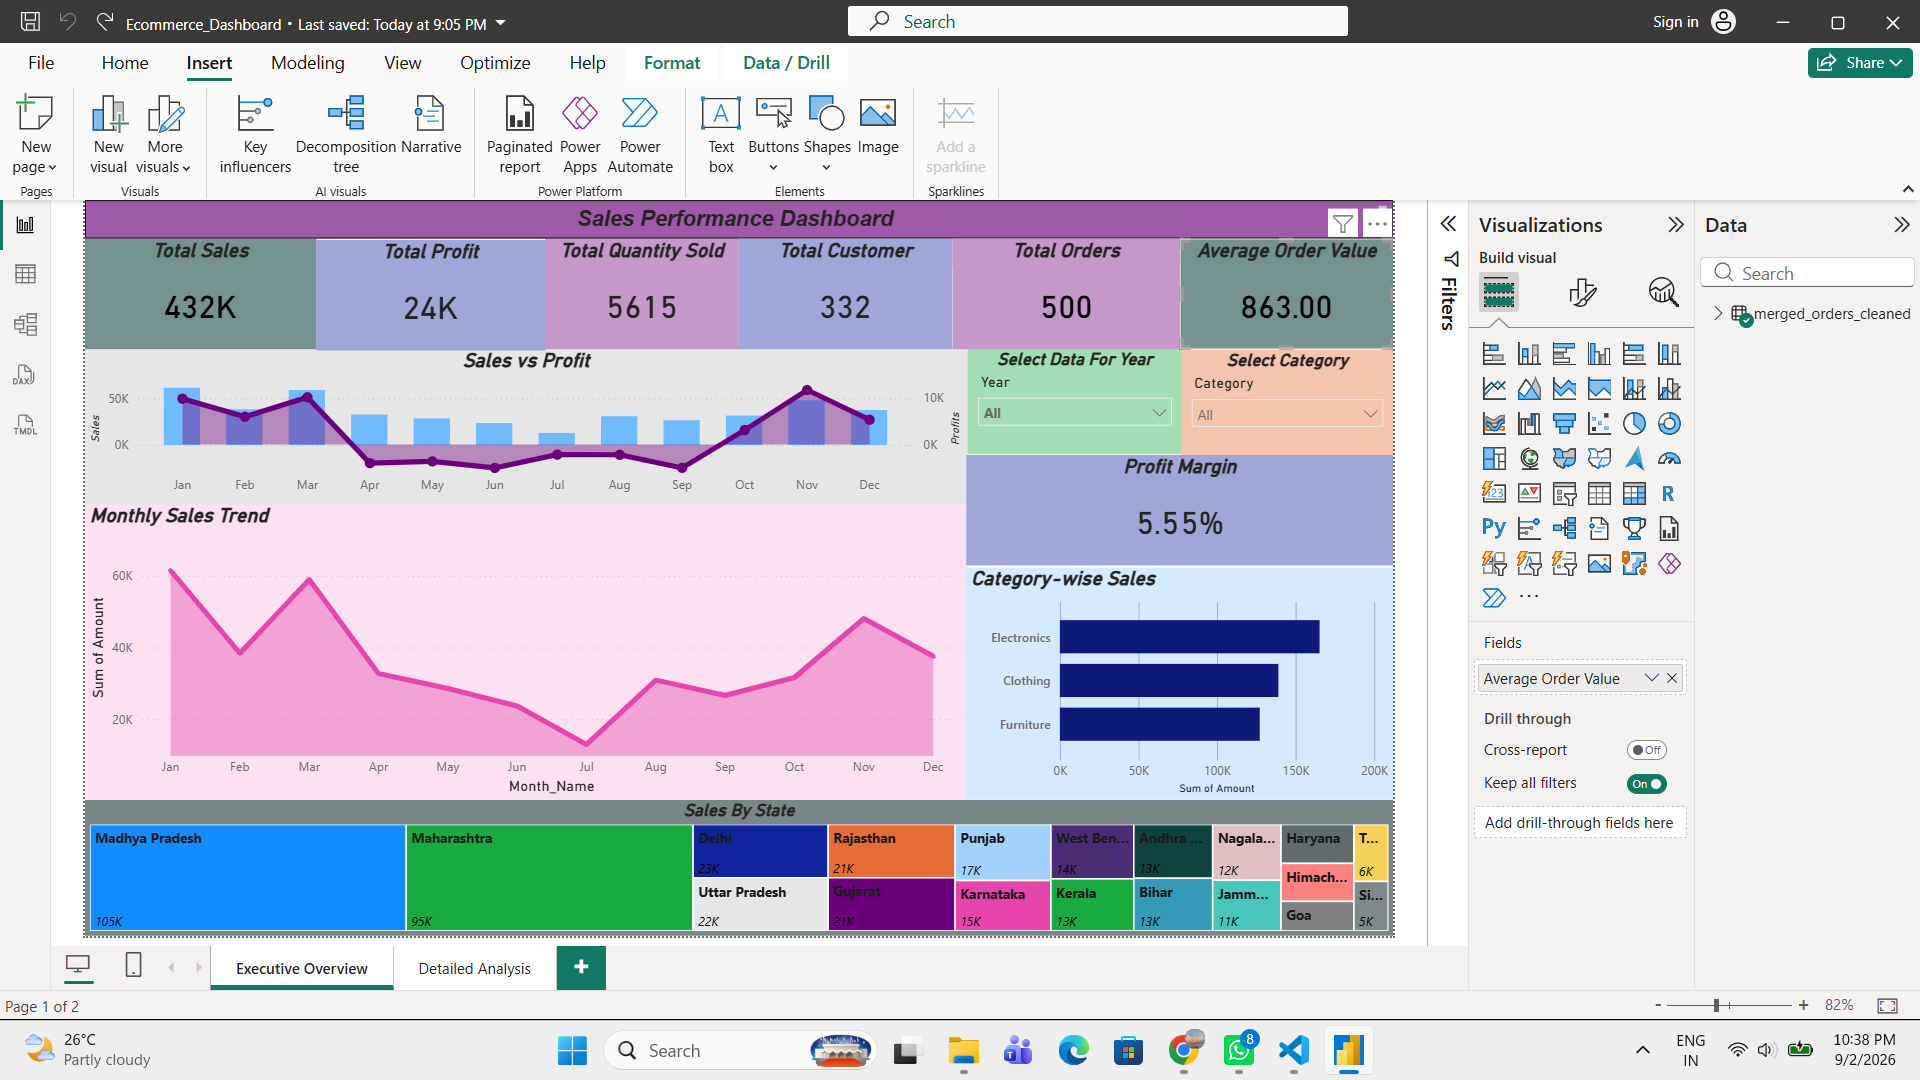

Layout of this report page (visuals, bound fields, positions):
{"tool":"powerbi","page":{"name":"Executive Overview","canvas":[1280,720],"ordinal":0},"visuals":[{"type":"card","title":"Total Sales","fields":{"Values":["Sum(merged_orders_cleaned.Amount)"]},"box":[0,37.9,226.2,107.6],"z":0},{"type":"card","title":"Total Profit","fields":{"Values":["Sum(merged_orders_cleaned.Profit)"]},"box":[226.2,39.1,223.8,107.6],"z":1000},{"type":"card","title":"Total Quantity Sold","fields":{"Values":["Sum(merged_orders_cleaned.Quantity)"]},"box":[450,37.9,189.5,107.6],"z":2000},{"type":"lineChart","title":"Monthly Sales Trend","fields":{"Category":["merged_orders_cleaned.Month_Name"],"Y":["Sum(merged_orders_cleaned.Amount)"]},"box":[0,297.3,862.1,289.8],"z":3000},{"type":"clusteredBarChart","title":"Category-wise Sales","fields":{"Category":["merged_orders_cleaned.Category"],"Y":["Sum(merged_orders_cleaned.Amount)"]},"box":[862.1,359.5,418.2,227.4],"z":4000},{"type":"treemap","title":"Sales By State","fields":{"Group":["merged_orders_cleaned.State"],"Values":["Sum(merged_orders_cleaned.Amount)"]},"box":[0,587.1,1280,133.1],"z":5000},{"type":"slicer","title":"Select Data For Year","fields":{"Values":["merged_orders_cleaned.Year"]},"box":[863.3,145.5,210.2,103.2],"z":6000},{"type":"slicer","title":"Select Category","fields":{"Values":["merged_orders_cleaned.Category"]},"box":[1072.3,146.8,207.7,103.2],"z":7000},{"type":"lineStackedColumnComboChart","title":"Sales vs Profit","fields":{"Category":["merged_orders_cleaned.Month_Name"],"Y":["Sum(merged_orders_cleaned.Amount)"],"Y2":["Sum(merged_orders_cleaned.Profit)"]},"box":[0,145.5,863.3,151.8],"z":8000},{"type":"textbox","box":[0,0,1280,37.3],"z":9000},{"type":"card","title":"Total Orders","fields":{"Values":["merged_orders_cleaned.Total Orders"]},"box":[848.6,37.9,222.6,107.6],"z":10000},{"type":"card","title":"Total Customer","fields":{"Values":["merged_orders_cleaned.Total Customers"]},"box":[639.5,37.9,209.1,107.6],"z":11000},{"type":"card","title":"Profit Margin","fields":{"Values":["merged_orders_cleaned.Profit Margin"]},"box":[862.1,249.5,418.2,107.6],"z":12000},{"type":"card","title":"Average Order Value","fields":{"Values":["merged_orders_cleaned.Average Order Value"]},"box":[1071.2,37.9,209.1,107.6],"z":12001}]}

Visuals, with their boxes on the page's 1280x720 design canvas (x1, y1, x2, y2). These are canvas units, not pixel positions in the 1920x1080 screenshot, which may show the page scaled, cropped or inside an application window:
"Total Sales" card: {"left": 0, "top": 38, "right": 226, "bottom": 146}
"Total Profit" card: {"left": 226, "top": 39, "right": 450, "bottom": 147}
"Total Quantity Sold" card: {"left": 450, "top": 38, "right": 640, "bottom": 146}
"Monthly Sales Trend" lineChart: {"left": 0, "top": 297, "right": 862, "bottom": 587}
"Category-wise Sales" clusteredBarChart: {"left": 862, "top": 360, "right": 1280, "bottom": 587}
"Sales By State" treemap: {"left": 0, "top": 587, "right": 1280, "bottom": 720}
"Select Data For Year" slicer: {"left": 863, "top": 146, "right": 1074, "bottom": 249}
"Select Category" slicer: {"left": 1072, "top": 147, "right": 1280, "bottom": 250}
"Sales vs Profit" lineStackedColumnComboChart: {"left": 0, "top": 146, "right": 863, "bottom": 297}
textbox: {"left": 0, "top": 0, "right": 1280, "bottom": 37}
"Total Orders" card: {"left": 849, "top": 38, "right": 1071, "bottom": 146}
"Total Customer" card: {"left": 640, "top": 38, "right": 849, "bottom": 146}
"Profit Margin" card: {"left": 862, "top": 250, "right": 1280, "bottom": 357}
"Average Order Value" card: {"left": 1071, "top": 38, "right": 1280, "bottom": 146}
